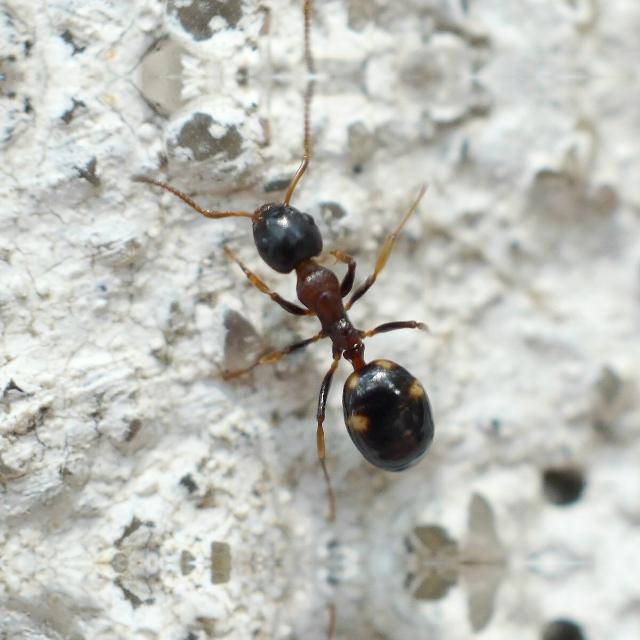Dolichoderus: (173, 146, 482, 490)
